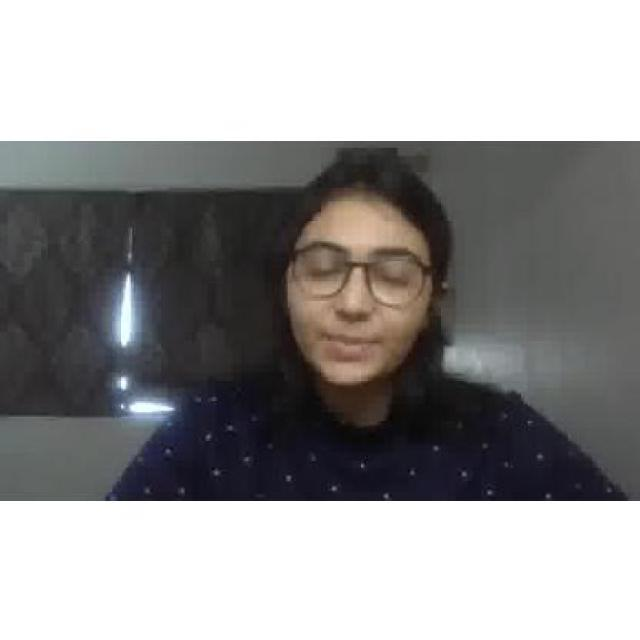inattentif: (278, 161, 436, 390)
